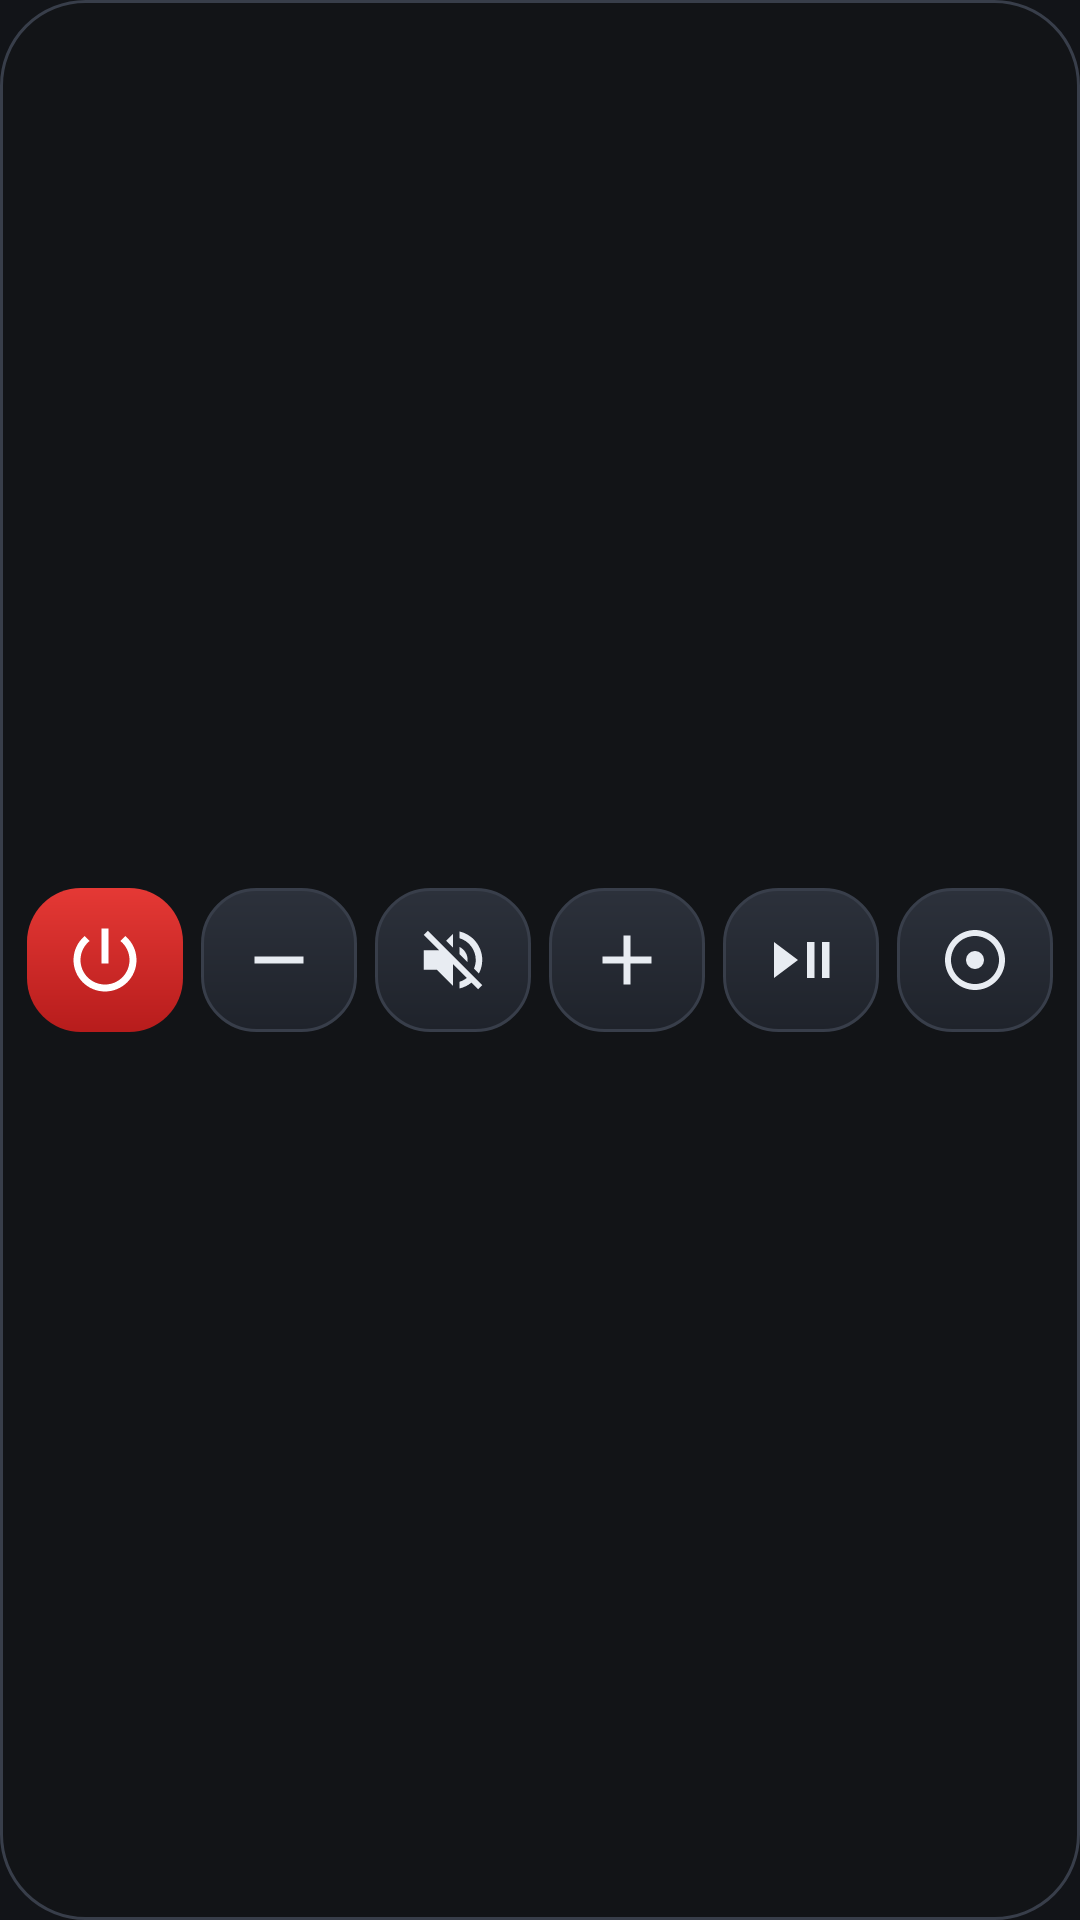

Named icons in this screenshot (1080w x 1920h) and their bounding boxes, (x1, y1, x2, y2):
Aumentar volume: (549, 888, 705, 1032)
Diminuir volume: (201, 888, 357, 1032)
Ligar ou desligar: (27, 888, 183, 1032)
Mudo: (375, 888, 531, 1032)
Pausar ou continuar: (723, 888, 879, 1032)
